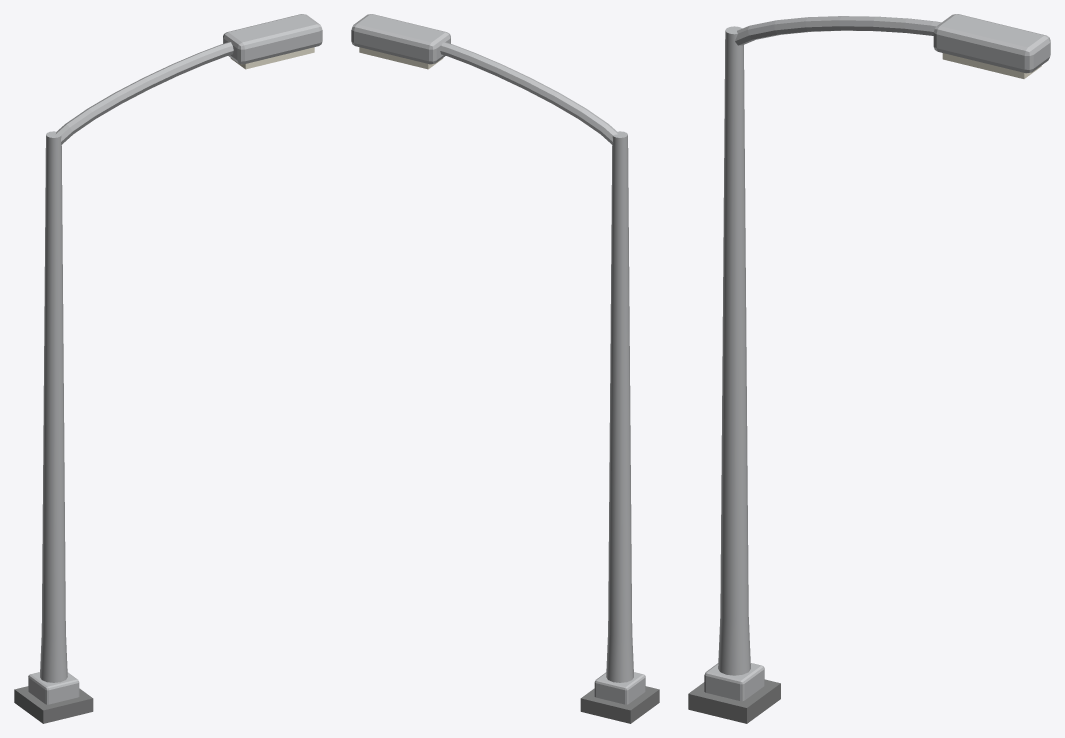
The model's file is city_lamp.fbx.
3 views of the same model, side by side, from view 1: azimuth 30°, elevation 25°; view 2: azimuth 150°, elevation 25°; view 3: azimuth 330°, elevation 25° (orthographic). The views are drawn at different scales.
Parts seen in each view (by area): view 1: alu_1, concrete_1; view 2: alu_1, concrete_1; view 3: alu_1, concrete_1, lamp_1.
Boxes of the visible parts, bbox=[...] form: alu_1: bbox=[28, 14, 322, 704]; concrete_1: bbox=[14, 686, 93, 723]; alu_1: bbox=[351, 14, 645, 704]; concrete_1: bbox=[580, 686, 659, 723]; alu_1: bbox=[704, 14, 1050, 701]; concrete_1: bbox=[688, 679, 780, 723]; lamp_1: bbox=[942, 53, 1041, 78].
Bounding box in the file's own units: 0.3555 × 0.743 × 0.062.
